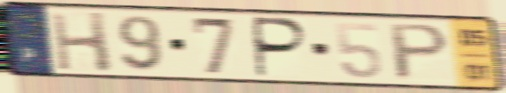5: (331, 20, 384, 80)
7: (188, 15, 240, 77)
9: (117, 13, 166, 74)
H: (47, 10, 116, 75)
P: (388, 21, 453, 83), (253, 15, 311, 80)
